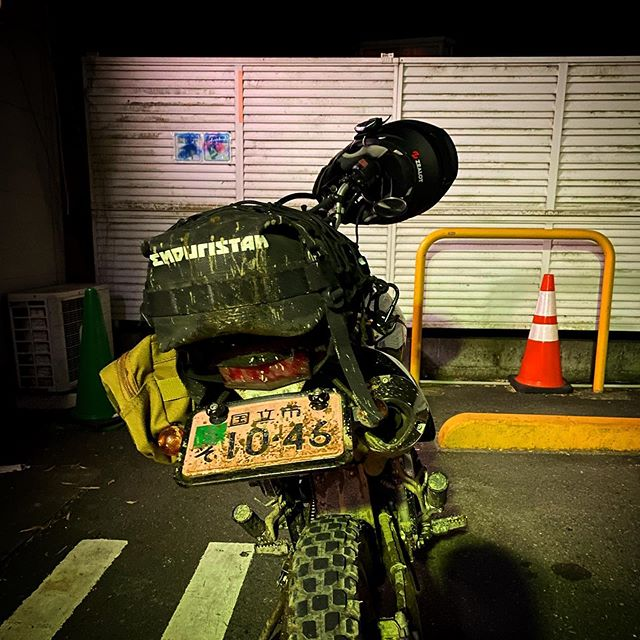crosswalk: (1, 509, 278, 640)
motorcycle: (222, 353, 449, 640)
street: (1, 431, 640, 636)
traffic cone: (505, 270, 574, 399)
